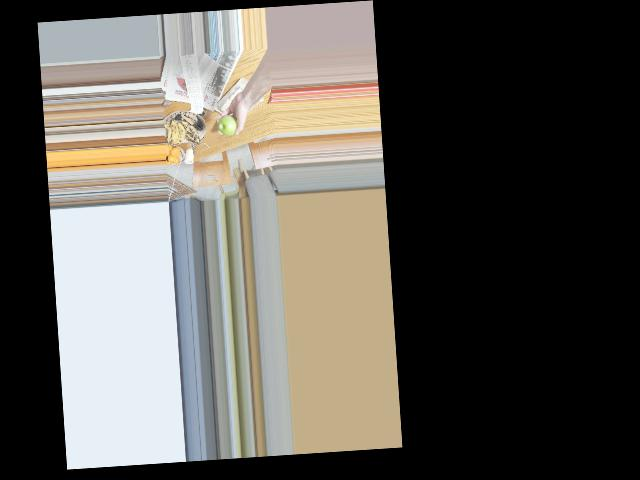apple: (218, 112, 240, 136)
